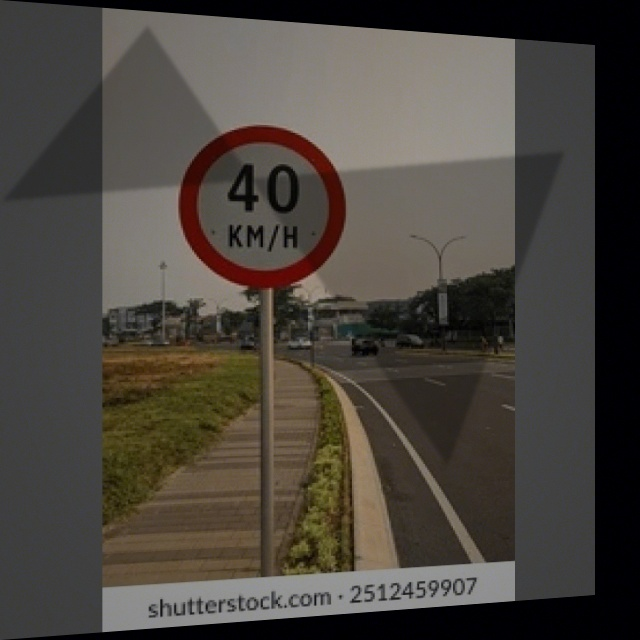Speed_Limit_40: (184, 120, 347, 287)
